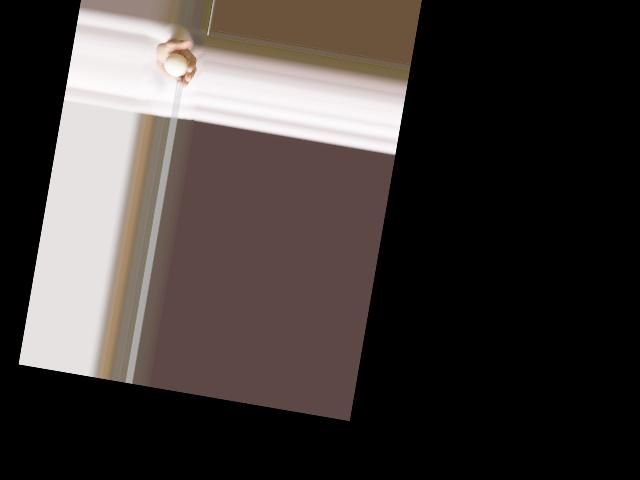egg: (163, 52, 190, 78)
